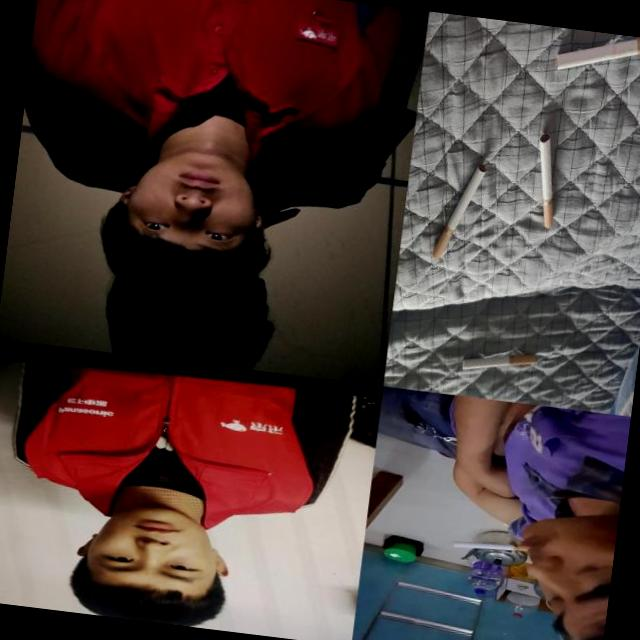smoke: (432, 156, 488, 262), (554, 27, 640, 84), (529, 132, 564, 228), (462, 344, 536, 378), (452, 536, 532, 556)
